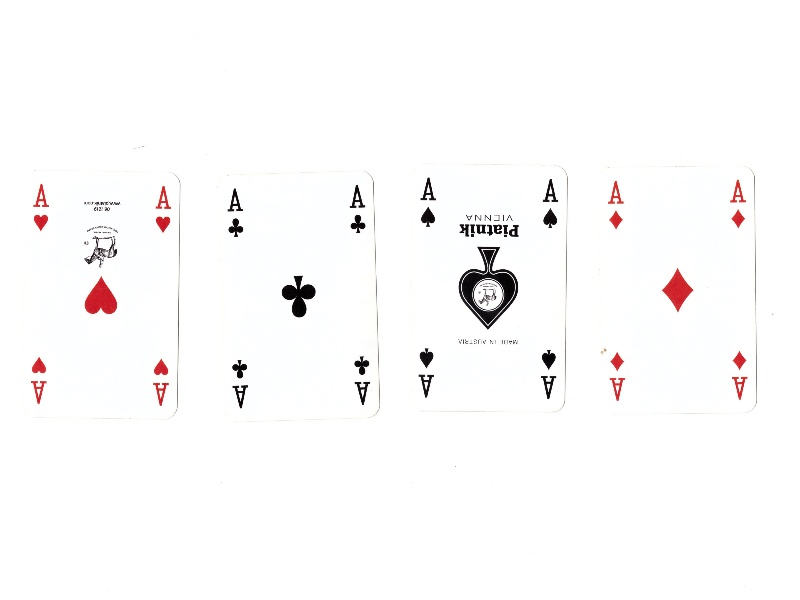Ac: (349, 353, 373, 409), (228, 356, 252, 412), (346, 181, 370, 235), (224, 183, 246, 241)
Ad: (603, 175, 627, 234), (606, 348, 628, 405), (727, 176, 748, 232), (730, 347, 751, 403)
Ah: (28, 354, 51, 408), (151, 184, 174, 235), (151, 356, 172, 411), (32, 182, 51, 234)
As: (413, 345, 437, 404), (417, 174, 439, 231), (539, 176, 561, 233), (538, 347, 558, 405)
